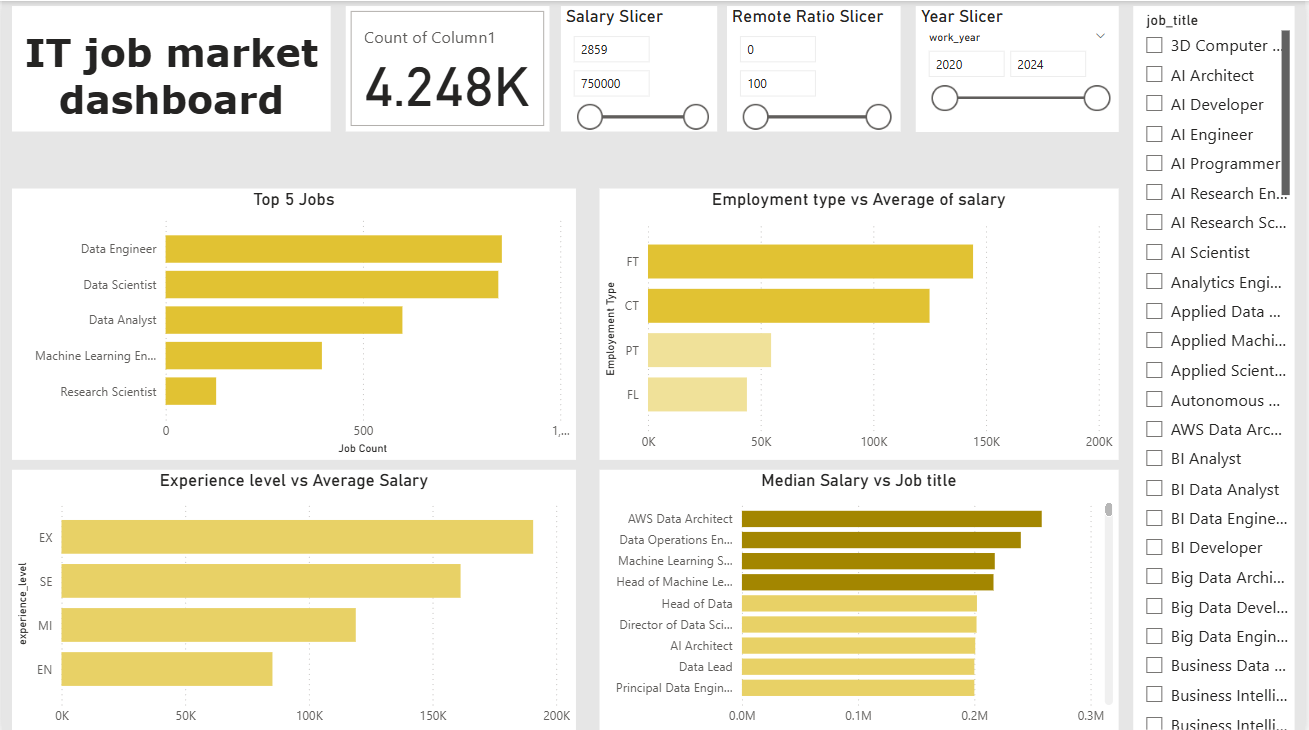

What the dashboard file says about the page in this screenshot:
{"tool":"powerbi","page":{"name":"Page 1","canvas":[1280,720],"ordinal":0},"visuals":[{"type":"barChart","title":"Top 5 Jobs","fields":{"Category":["cleaned_csv.job_title"],"Y":["CountNonNull(cleaned_csv.Column1)"]},"box":[9.8,184.1,553.4,266.3],"z":0},{"type":"barChart","title":"Employment type vs Average of salary","fields":{"Category":["cleaned_csv.employment_type"],"Y":["Avg(cleaned_csv.salary_in_usd)"]},"box":[586.5,184.1,509.2,266.3],"z":1000},{"type":"barChart","title":"Experience level vs Average Salary ","fields":{"Category":["cleaned_csv.experience_level"],"Y":["Avg(cleaned_csv.salary_in_usd)"]},"box":[9.8,460.1,553.4,260.1],"z":2000},{"type":"barChart","title":"Median Salary vs Job title","fields":{"Category":["cleaned_csv.job_title"],"Y":["Median(cleaned_csv.salary_in_usd)"]},"box":[586.5,460.1,509.2,260.1],"z":3000},{"type":"cardVisual","fields":{"Data":["CountNonNull(cleaned_csv.Column1)"]},"box":[337.6,5.5,200.3,123.5],"z":4000},{"type":"slicer","title":"Salary Slicer","fields":{"Values":["cleaned_csv.salary_in_usd"]},"box":[548.9,5.5,153.7,123.5],"z":5000},{"type":"slicer","title":"Remote Ratio Slicer","fields":{"Values":["cleaned_csv.remote_ratio"]},"box":[712.2,5.5,170.2,123.5],"z":6000},{"type":"slicer","title":"Year Slicer","fields":{"Values":["cleaned_csv.work_year"]},"box":[897.4,5.5,199,123.5],"z":7000},{"type":"slicer","fields":{"Values":["cleaned_csv.job_title"]},"box":[1110.4,4.9,158.3,715.3],"z":8000},{"type":"textbox","box":[9.6,5.5,312.9,123.5],"z":8001}]}

Visuals, with their boxes in screenshot pixels (x1, y1, x2, y2), scaled from the page's 1280x720 canvas onto the 1309x730 screenshot:
"Top 5 Jobs" barChart: (10, 187, 576, 457)
"Employment type vs Average of salary" barChart: (600, 187, 1121, 457)
"Experience level vs Average Salary " barChart: (10, 466, 576, 729)
"Median Salary vs Job title" barChart: (600, 466, 1121, 729)
cardVisual - CountNonNull(cleaned_csv.Column1): (345, 6, 550, 131)
"Salary Slicer" slicer: (561, 6, 719, 131)
"Remote Ratio Slicer" slicer: (728, 6, 902, 131)
"Year Slicer" slicer: (918, 6, 1121, 131)
slicer - cleaned_csv.job_title: (1136, 5, 1297, 729)
textbox: (10, 6, 330, 131)
